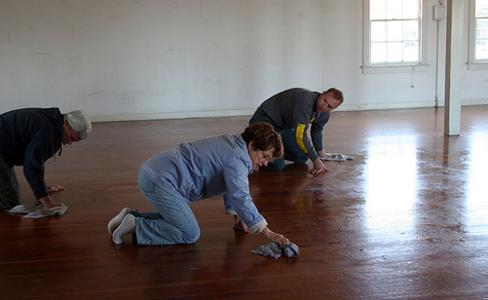person: (108, 123, 302, 261)
